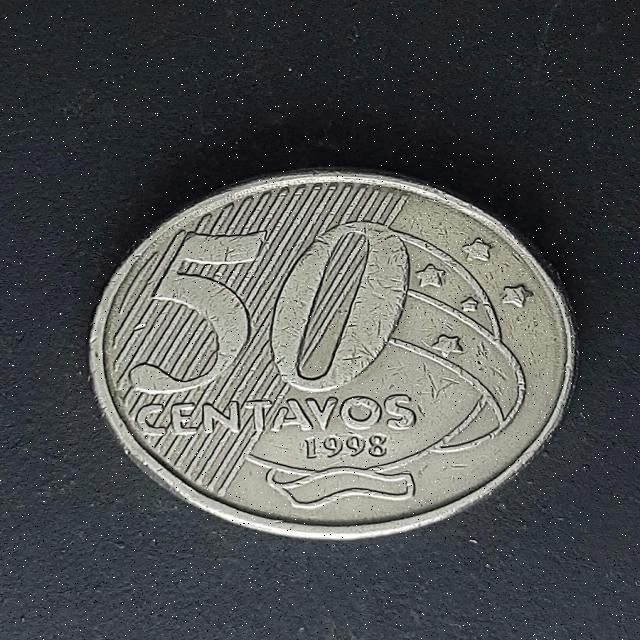50 cent: (94, 167, 586, 543)
